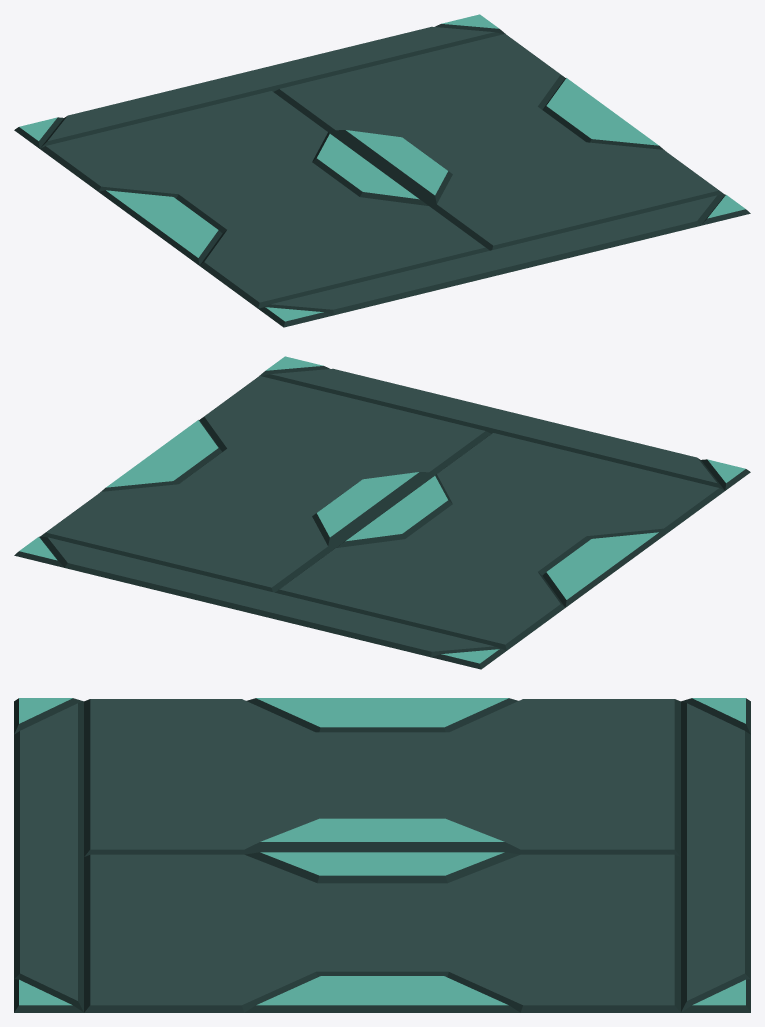
Rendered from Ground_Var003.fbx.
3 renders of one model, top to bottom at view 1: azimuth 30°, elevation 25°; view 2: azimuth 150°, elevation 25°; view 3: azimuth 270°, elevation 25°, orthographic. The views are drawn at different scales.
Parts seen in each view (by area): view 1: Ground_Var003; view 2: Ground_Var003; view 3: Ground_Var003.
Part boxes in pixels (x1,y1,x2,y2): Ground_Var003: [14, 14, 750, 327]; Ground_Var003: [14, 356, 750, 669]; Ground_Var003: [14, 698, 750, 1012].
Bounding box in the file's own units: 600 × 8.95 × 600.
